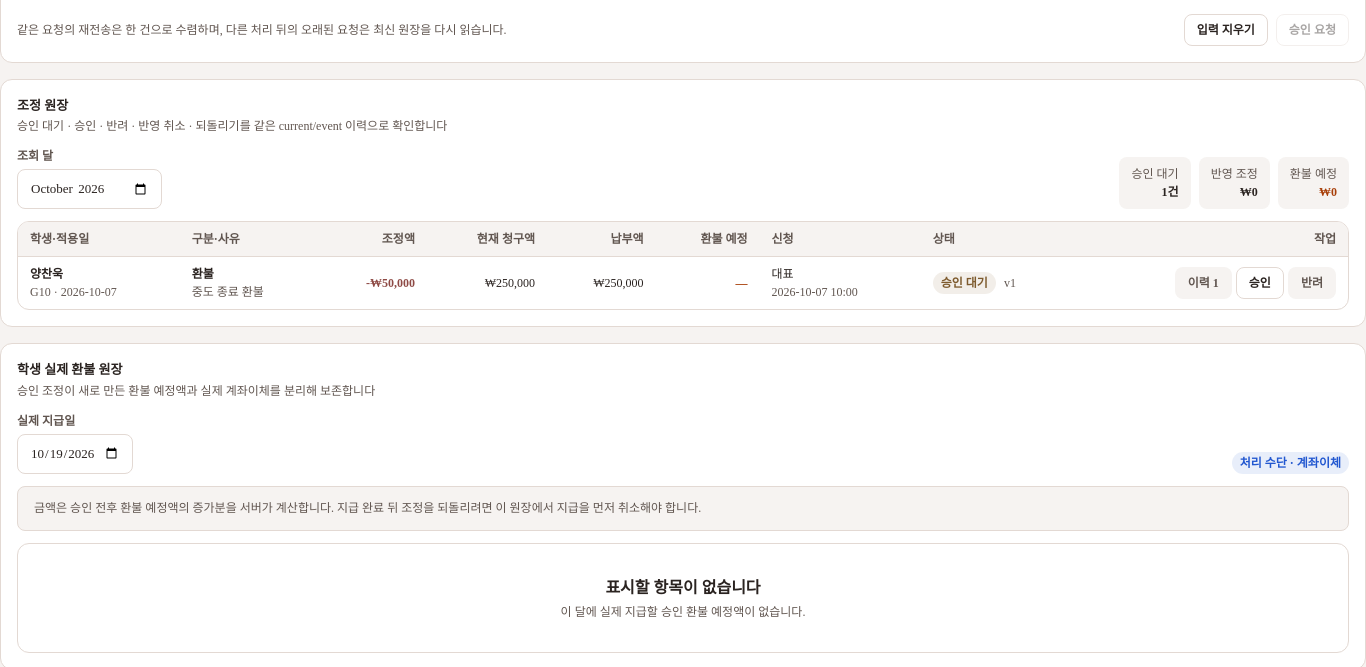
Test: ?tab=adjustments 직접 진입은 current version으로 승인하고 환불 예정액을 서버 값으로 표시한다
The width and height of the screenshot is (1366, 667).
(page scrolled)
What coordinates should you click on to do the following:
click the button "승인"
I would click on:
 (1260, 283)
Its box is x1=1236 y1=267 x2=1284 y2=299.
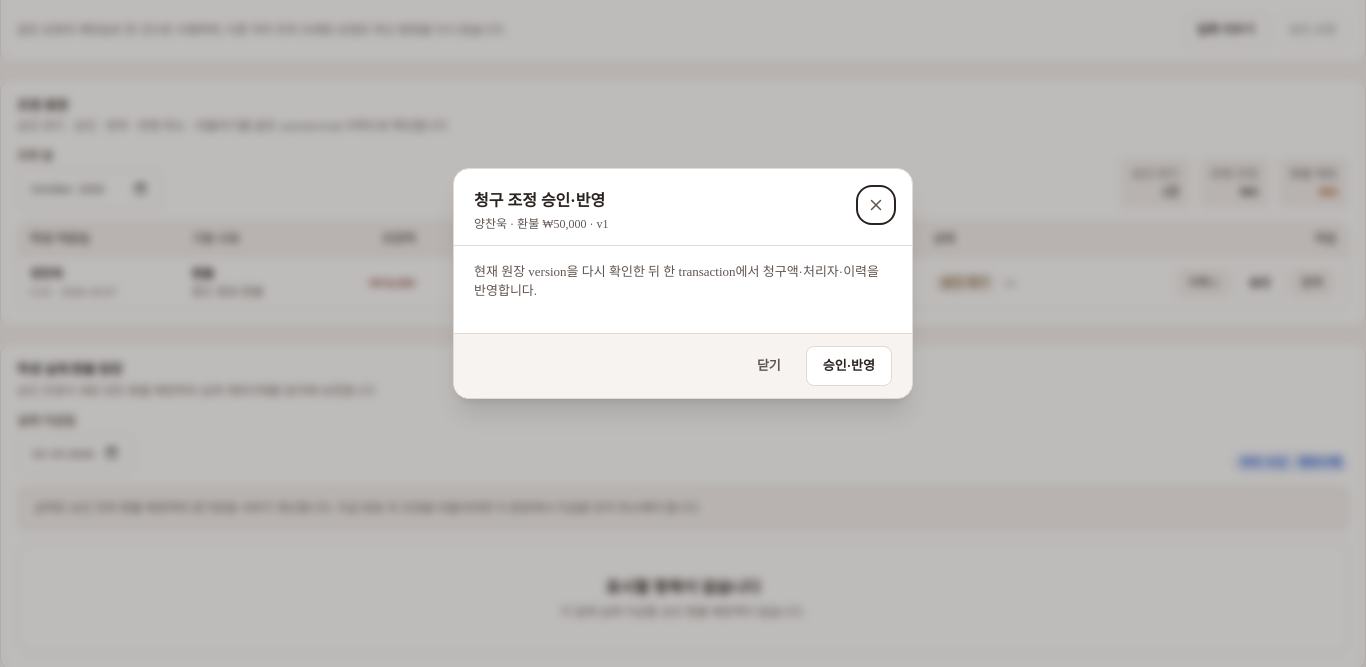
What coordinates should you click on to do the following:
click the button "승인·반영"
I would click on:
 (849, 366)
Its box is x1=806 y1=346 x2=892 y2=386.
(page scrolled)
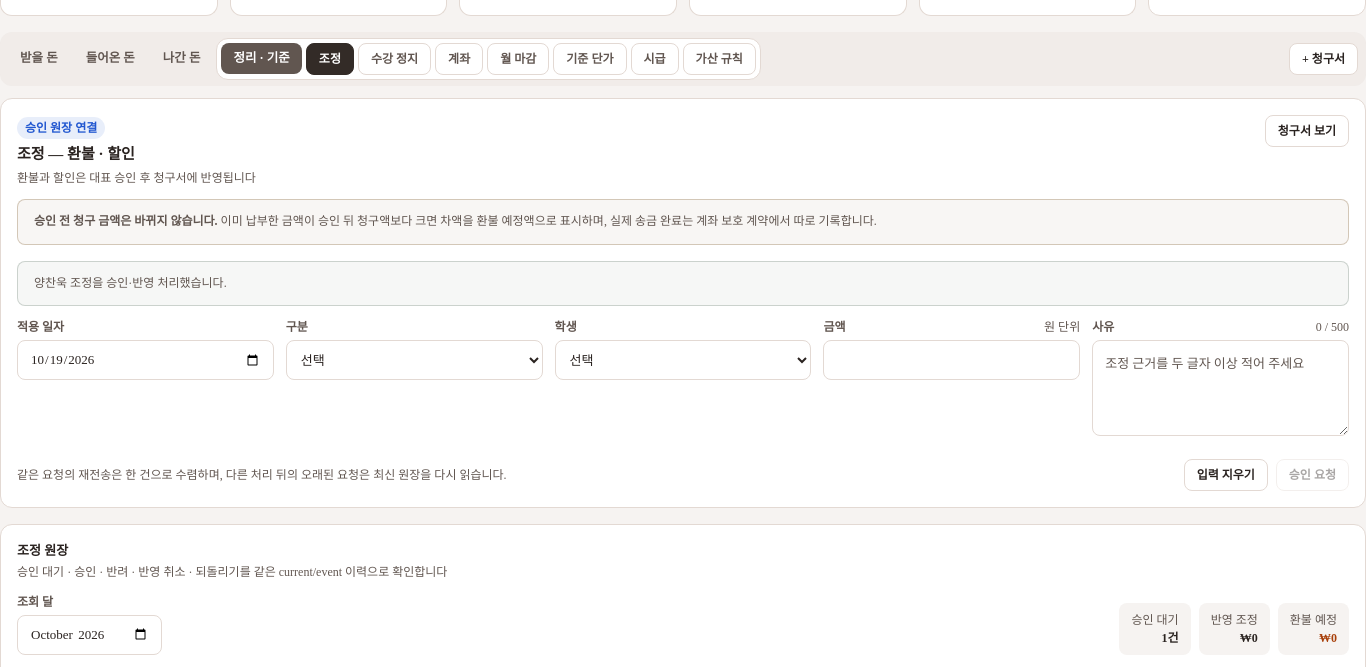
expect the text "양찬욱 조정을 승인·반영 처리했습니다." is shown: met, box x1=17 y1=260 x2=1349 y2=306
